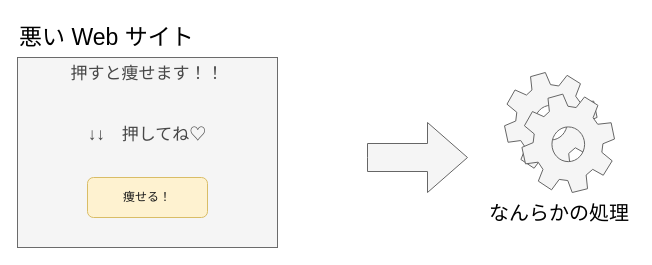
The diagram is 652 pixels wide and 265 high, and some of its shapes have lost their labels. Here are the shapes that lost their labels. From the top down, the centre of each, then its label:
At [147,152]: "◯◯はこちら。".
At [417,157]: "クリック".
